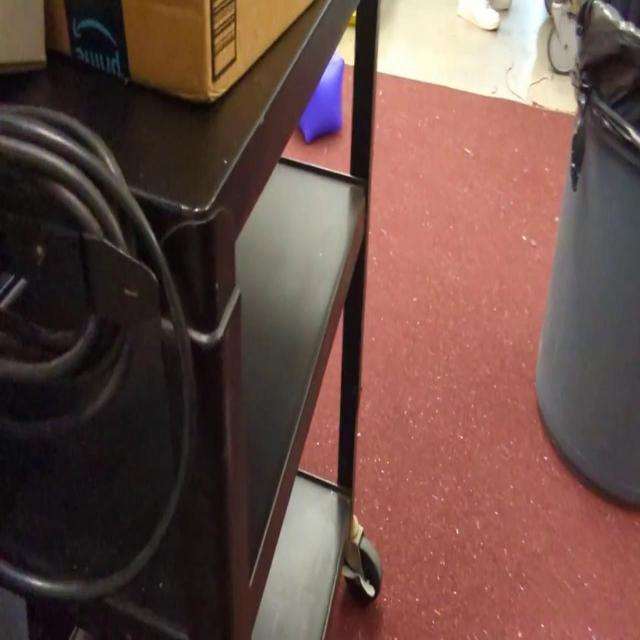frc_cube: (296, 41, 344, 142)
